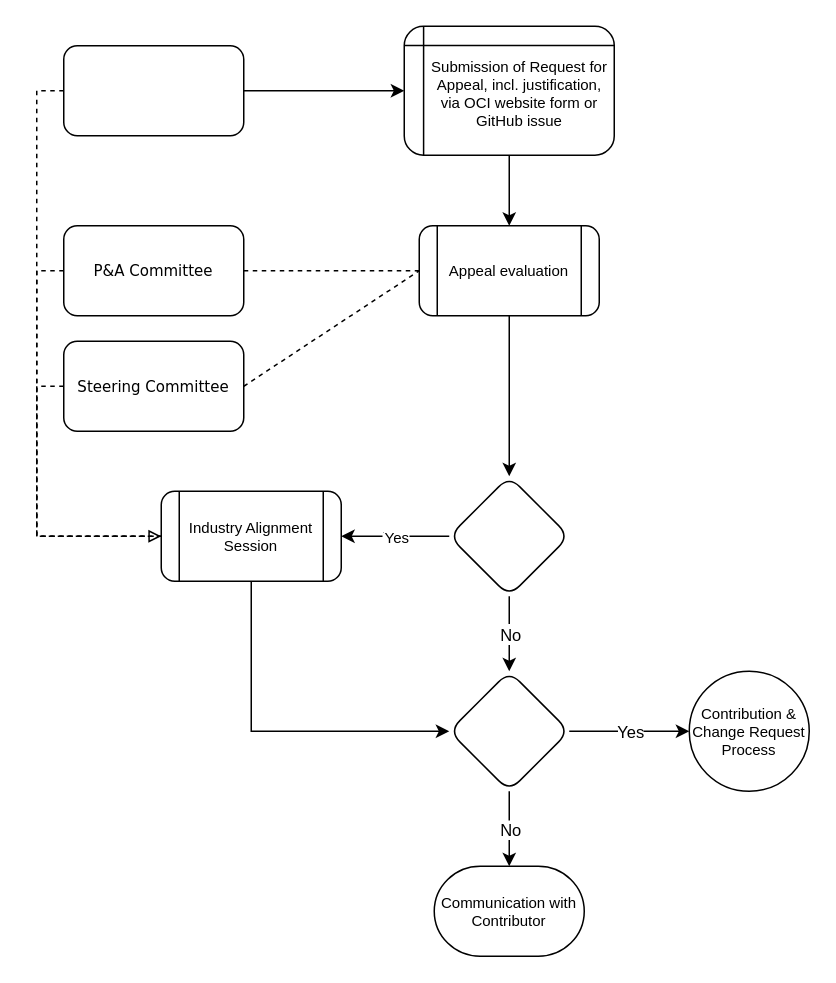
Some shapes in this 836 by 983 pixel diagram are drawn without their labels. The shapes that lost their labels are listed below. From the top down, each one's centre as x and y in pixels, then its label:
(x=153, y=90): OCI Contributor
(x=508, y=535): Industry Alignment needed?
(x=508, y=730): Appeal approved?
